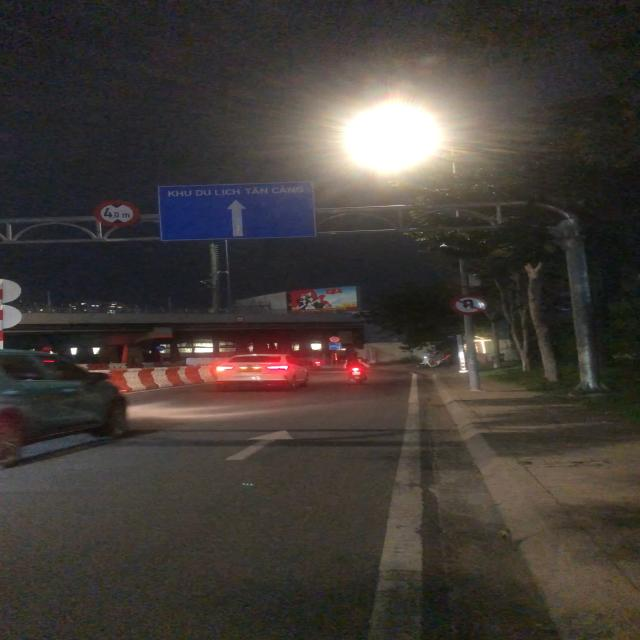Bien bao cam quay dau xe: (450, 294, 491, 317)
Bien bao han che chieu cao: (95, 198, 138, 228)
